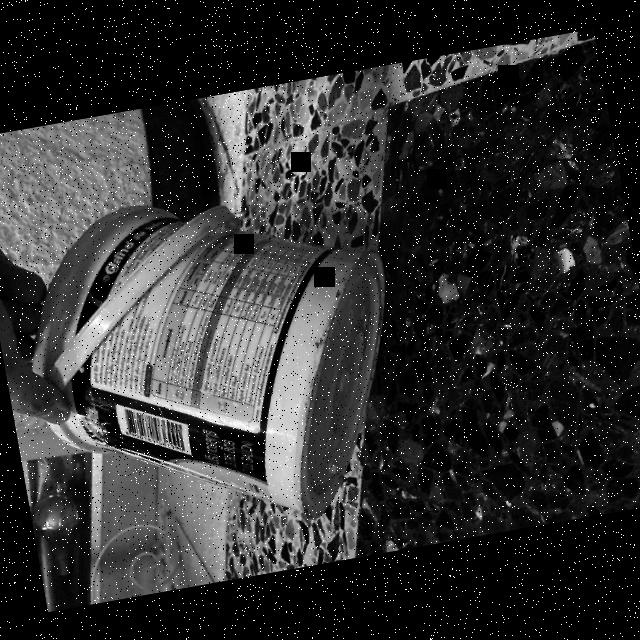paint_bucket: (0, 161, 428, 567)
